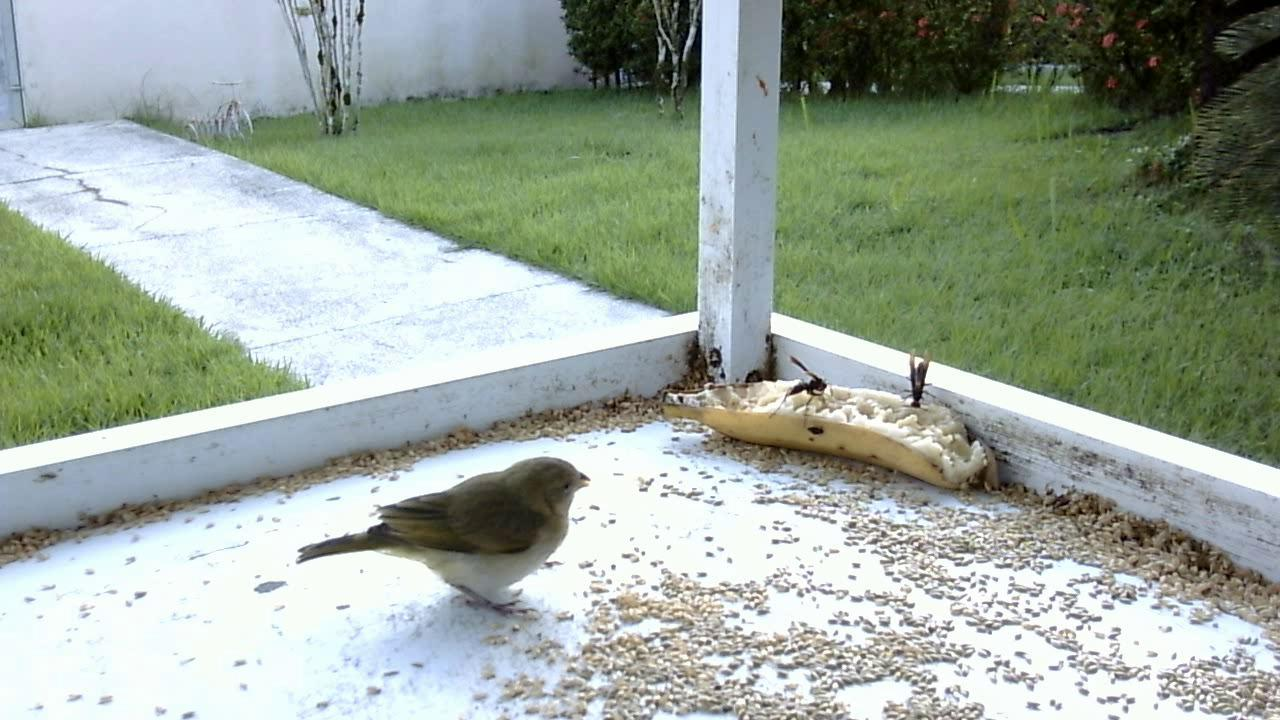canario_do_amazonas: (290, 450, 591, 622)
